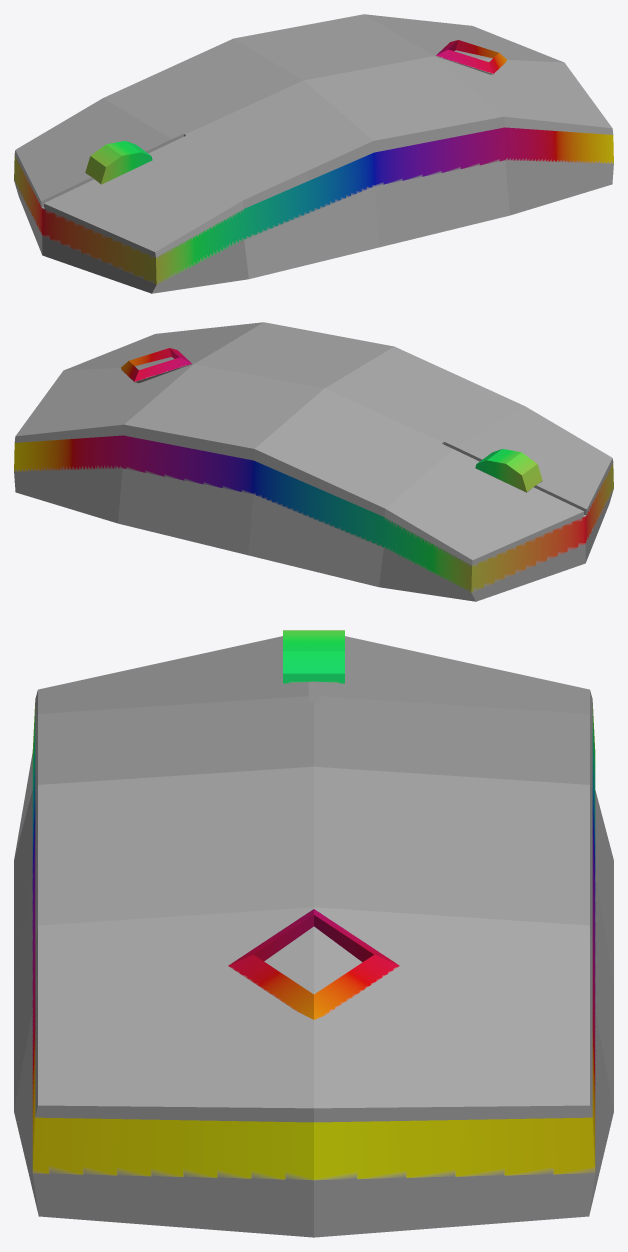
File: mouseWhite.fbx
3 renders of one model, top to bottom at view 1: azimuth 30°, elevation 25°; view 2: azimuth 150°, elevation 25°; view 3: azimuth 270°, elevation 25°, orthographic. The views are drawn at different scales.
Visible parts, largest first — view 1: Mouse; view 2: Mouse; view 3: Mouse.
Part boxes in pixels (<box>): Mouse: <box>14,14,613,293</box>; Mouse: <box>14,322,613,601</box>; Mouse: <box>14,630,613,1237</box>.
Size of the model in its own units: 2.3 by 1.16 by 0.4683.
